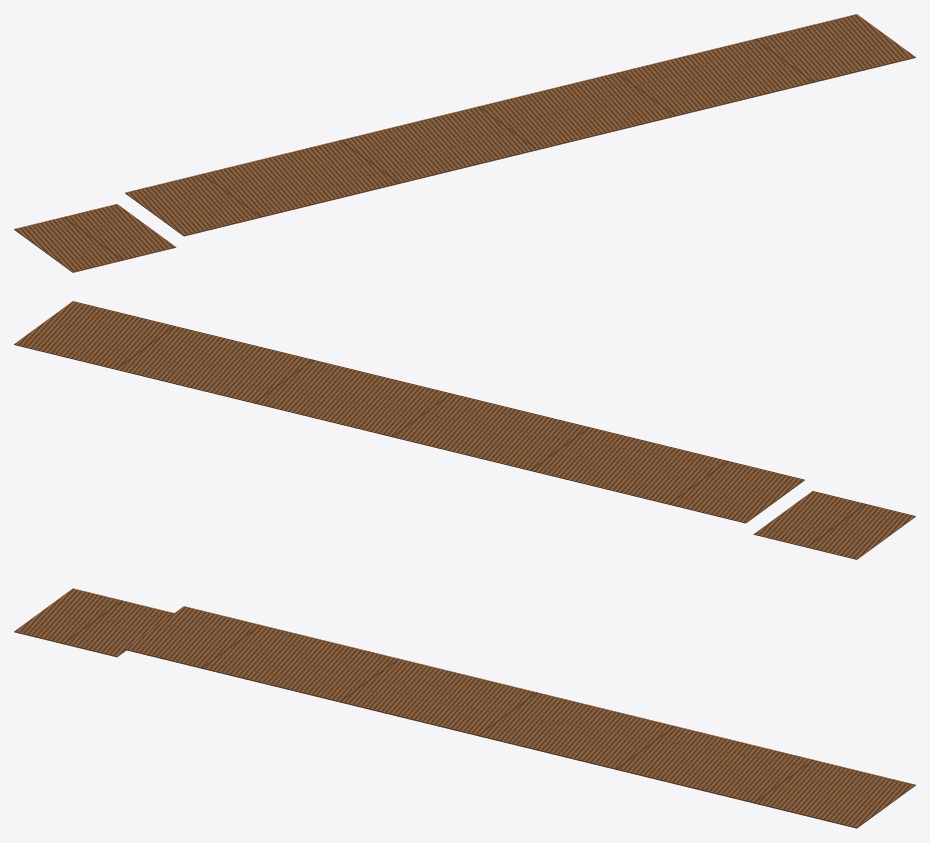
The model's file is wizardmap_celling.obj.
3 renders of one model, top to bottom at view 1: azimuth 30°, elevation 25°; view 2: azimuth 150°, elevation 25°; view 3: azimuth 330°, elevation 25°, orthographic.
Parts seen in each view (by area): view 1: Celiling.001; view 2: Celiling.001; view 3: Celiling.001.
Part boxes in pixels (x1,y1,x2,y2): Celiling.001: [14, 14, 915, 272]; Celiling.001: [14, 301, 915, 559]; Celiling.001: [14, 588, 915, 828].
Size of the model in its own units: 256 by 2.9 by 31.
